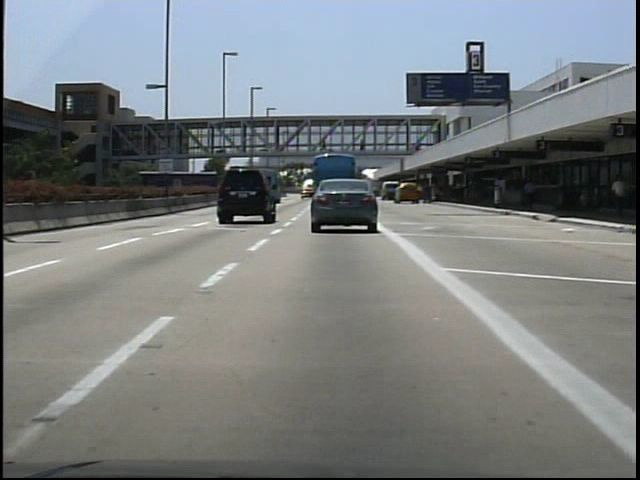person: (607, 169, 628, 221), (520, 173, 539, 215), (419, 179, 436, 207), (393, 181, 408, 208), (317, 134, 331, 154), (356, 136, 368, 157)
